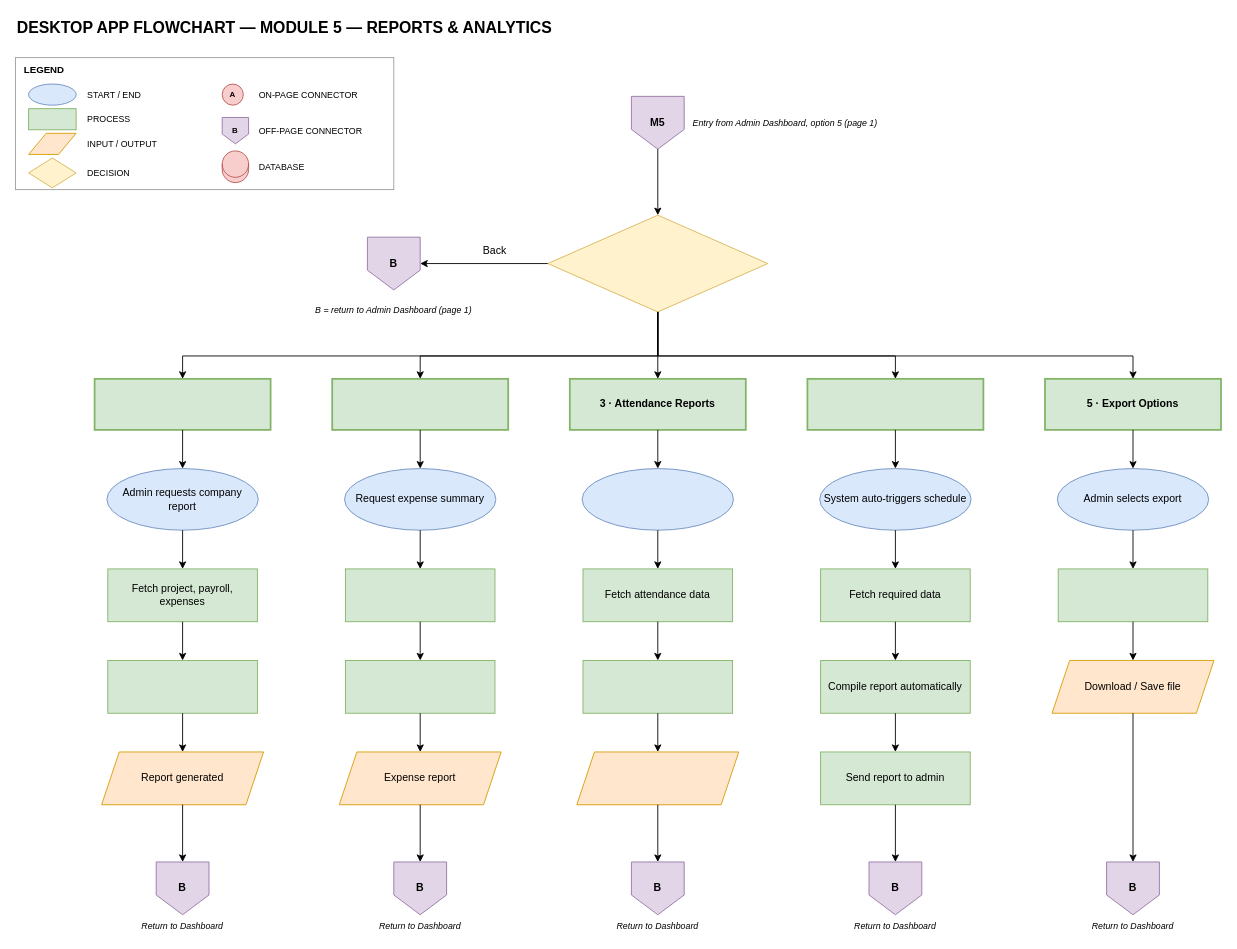
The diagram is 1237 pixels wide and 949 high, and some of its shapes have lost their labels. Here are the shapes that lost their labels. From the top down, the box of each, then its label:
(547, 214, 768, 312): Select function (1–5) or go back?
(93, 378, 271, 430): 1 · Company-Wide Reports
(331, 378, 509, 430): 2 · Expense Reports
(806, 378, 984, 430): 4 · Automated Reports
(581, 468, 733, 530): Admin requests attendance report
(345, 568, 495, 622): Fetch expense entries
(1057, 568, 1208, 622): Convert report to PDF / Excel
(107, 660, 257, 713): Compile into full summary
(345, 660, 495, 713): Summarize by week / month
(582, 660, 733, 713): Generate report
(576, 751, 739, 805): Attendance report
